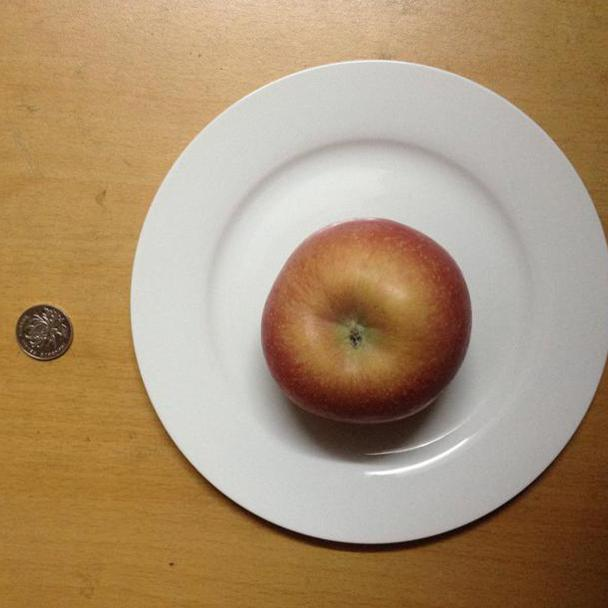apple: (261, 218, 472, 423)
